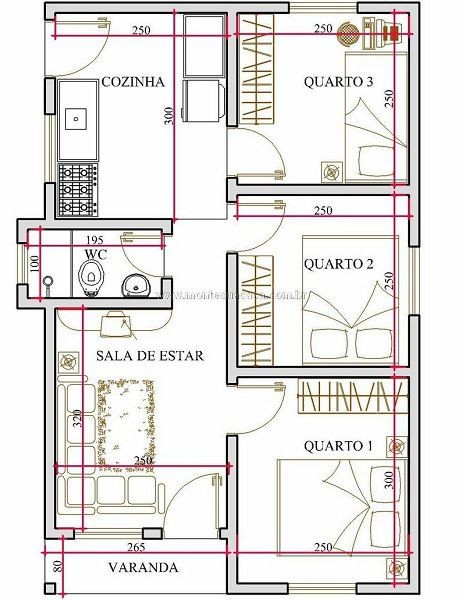door: (155, 461, 221, 544), (39, 16, 123, 80), (216, 372, 295, 437), (217, 127, 297, 183), (231, 194, 293, 255), (120, 233, 168, 277)
room: (221, 366, 424, 599), (44, 304, 236, 549), (37, 2, 240, 227), (225, 172, 421, 377), (229, 2, 425, 197), (10, 209, 172, 314)
wall: (42, 1, 294, 22), (8, 284, 175, 312), (406, 6, 425, 250), (11, 214, 180, 239), (42, 304, 59, 538), (230, 179, 405, 200), (406, 374, 422, 591), (220, 9, 247, 133), (219, 425, 239, 592), (230, 366, 418, 381), (222, 248, 238, 390), (228, 575, 290, 598), (360, 581, 426, 599), (351, 1, 426, 16), (40, 74, 61, 116), (407, 317, 424, 367), (41, 186, 60, 222)
window: (285, 579, 367, 600), (39, 117, 60, 187), (69, 524, 147, 540), (405, 253, 423, 311), (12, 244, 33, 281), (295, 3, 356, 14)
